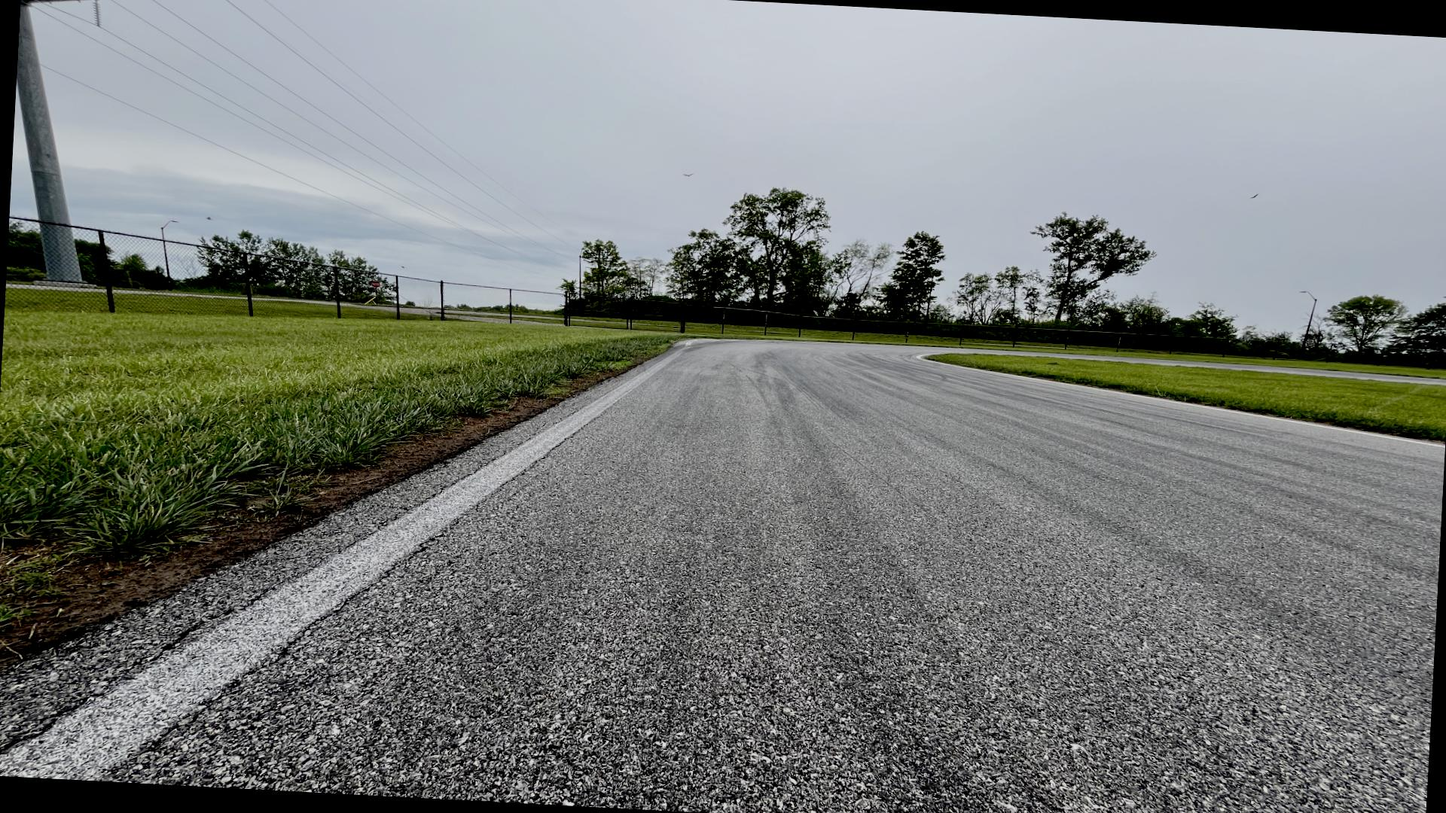white-line: (0, 340, 892, 781), (916, 353, 1444, 449)
